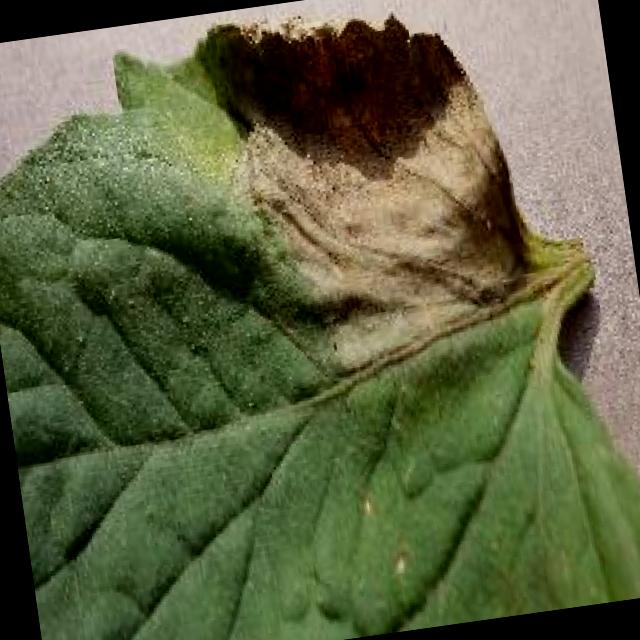leaf blight: (0, 21, 640, 640)
